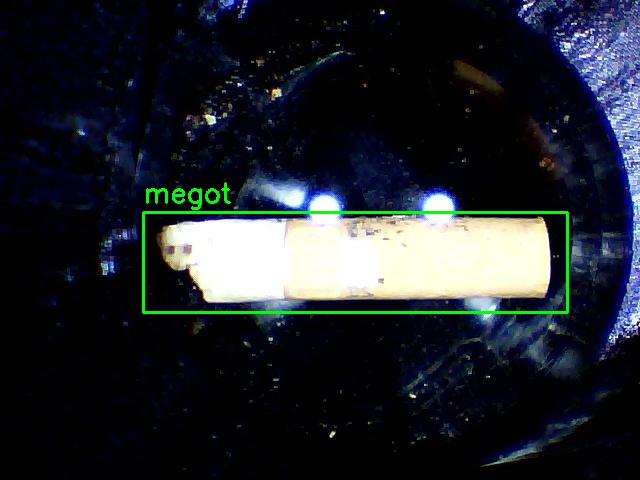megot: (143, 212, 567, 312)
